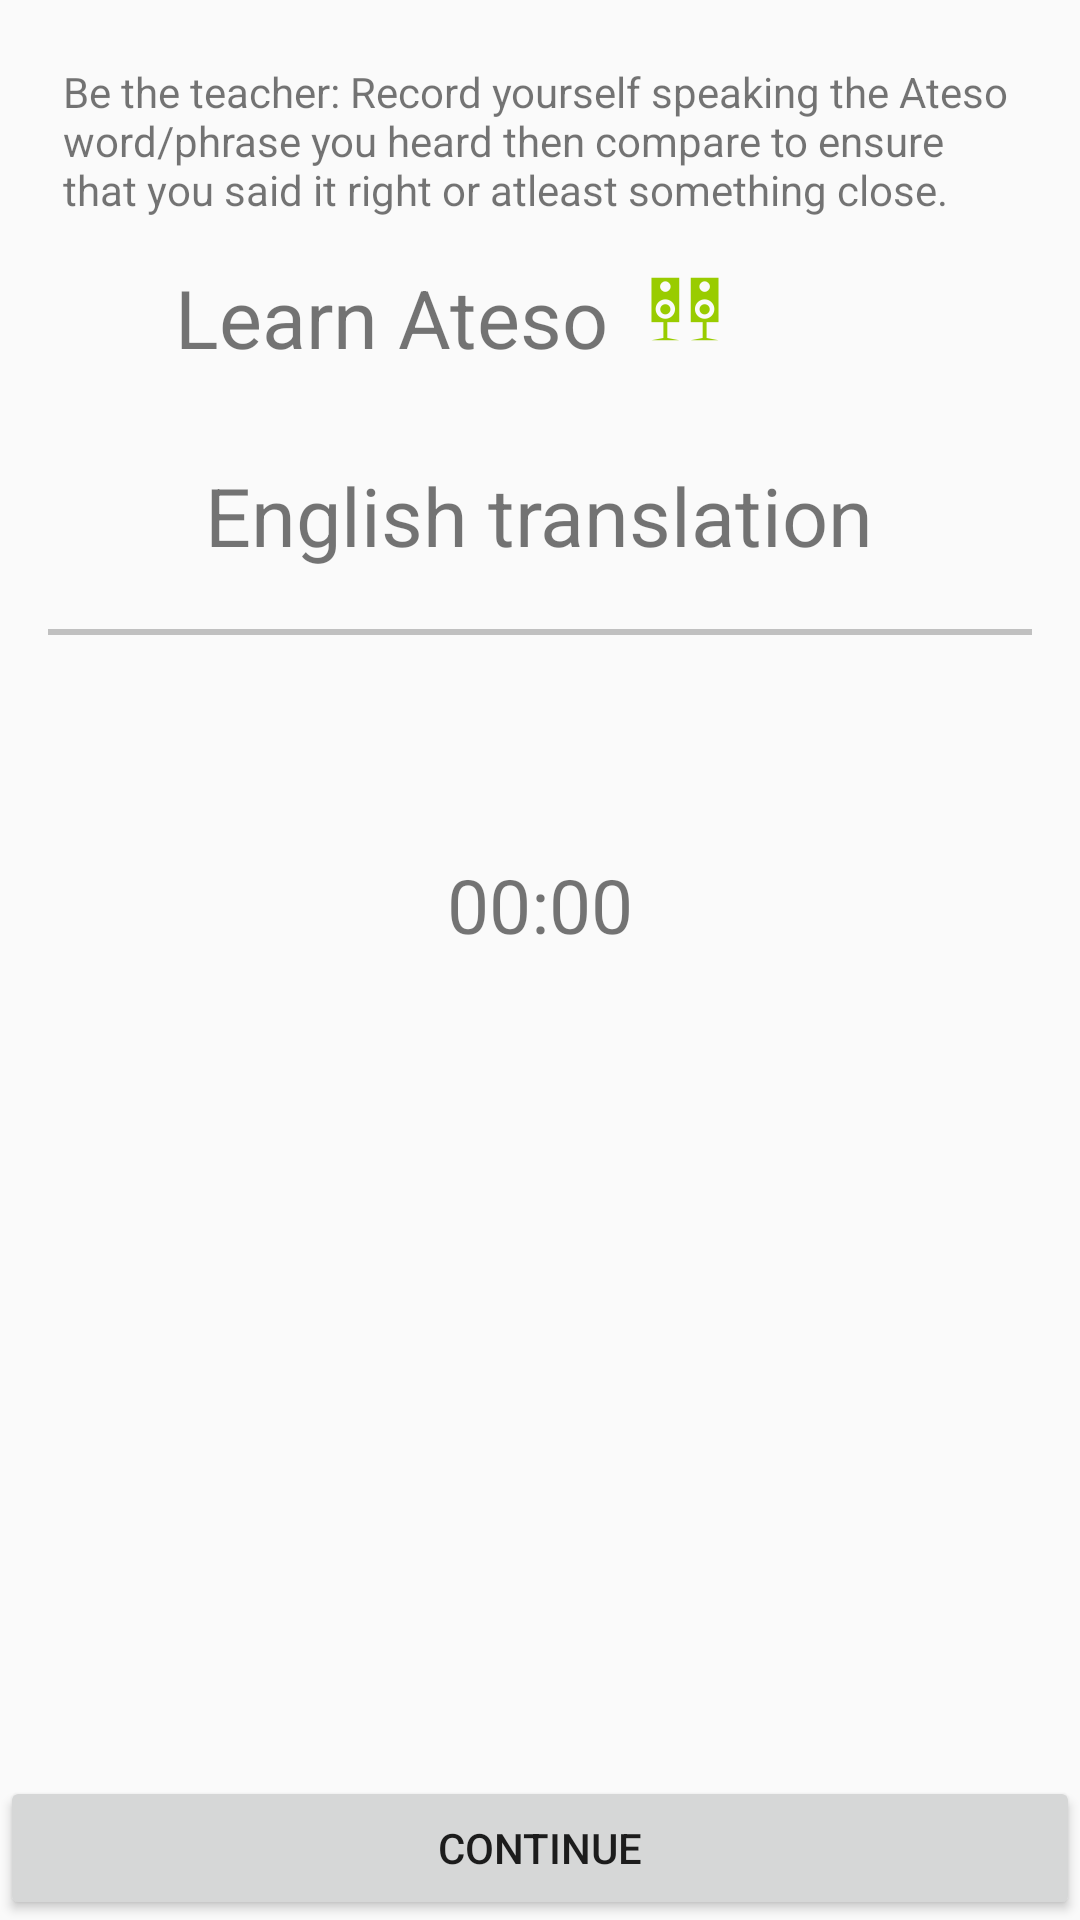

Icons on this 1080 x 1920 Android screen, each with the point to tap as (x=x, y=y):
audioicon: (x=685, y=309)
